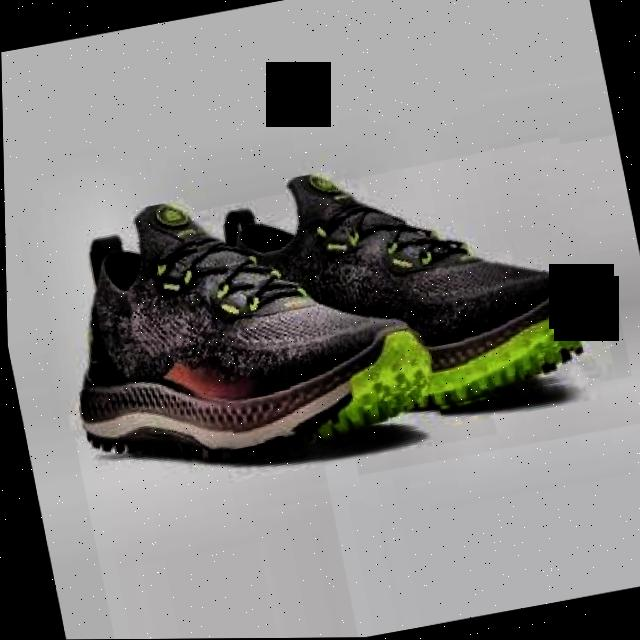shoe: (184, 129, 606, 449), (43, 160, 447, 493)
